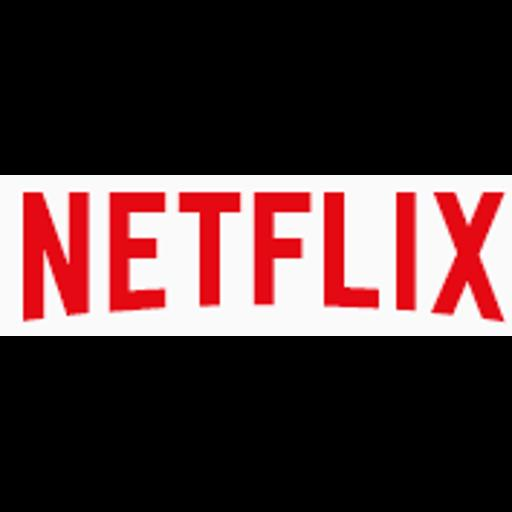Netflix: (0, 175, 512, 336)
